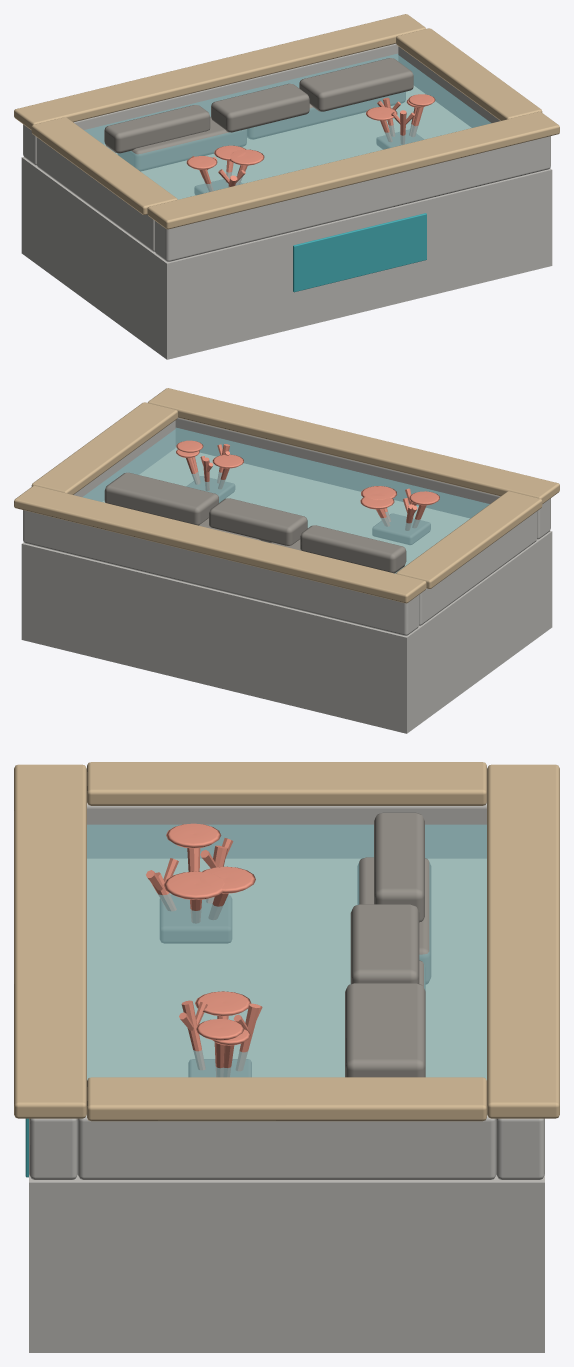
The model's file is public-aquarium-and-marine-centre-touch-pool-75729e13__34148.glb.
The picture shows the model from 3 angles, top to bottom: view 1: azimuth 30°, elevation 25°; view 2: azimuth 150°, elevation 25°; view 3: azimuth 270°, elevation 25°; orthographic projection. The views are drawn at different scales.
Visible parts, largest first — view 1: touch-pool; view 2: touch-pool; view 3: touch-pool.
Boxes of the visible parts, left/top/right/bottom form: touch-pool: left=14, top=14, right=559, bottom=359; touch-pool: left=14, top=388, right=559, bottom=733; touch-pool: left=14, top=762, right=559, bottom=1352.
Bounding box in the file's own units: 2.7 × 0.9498 × 1.8.
